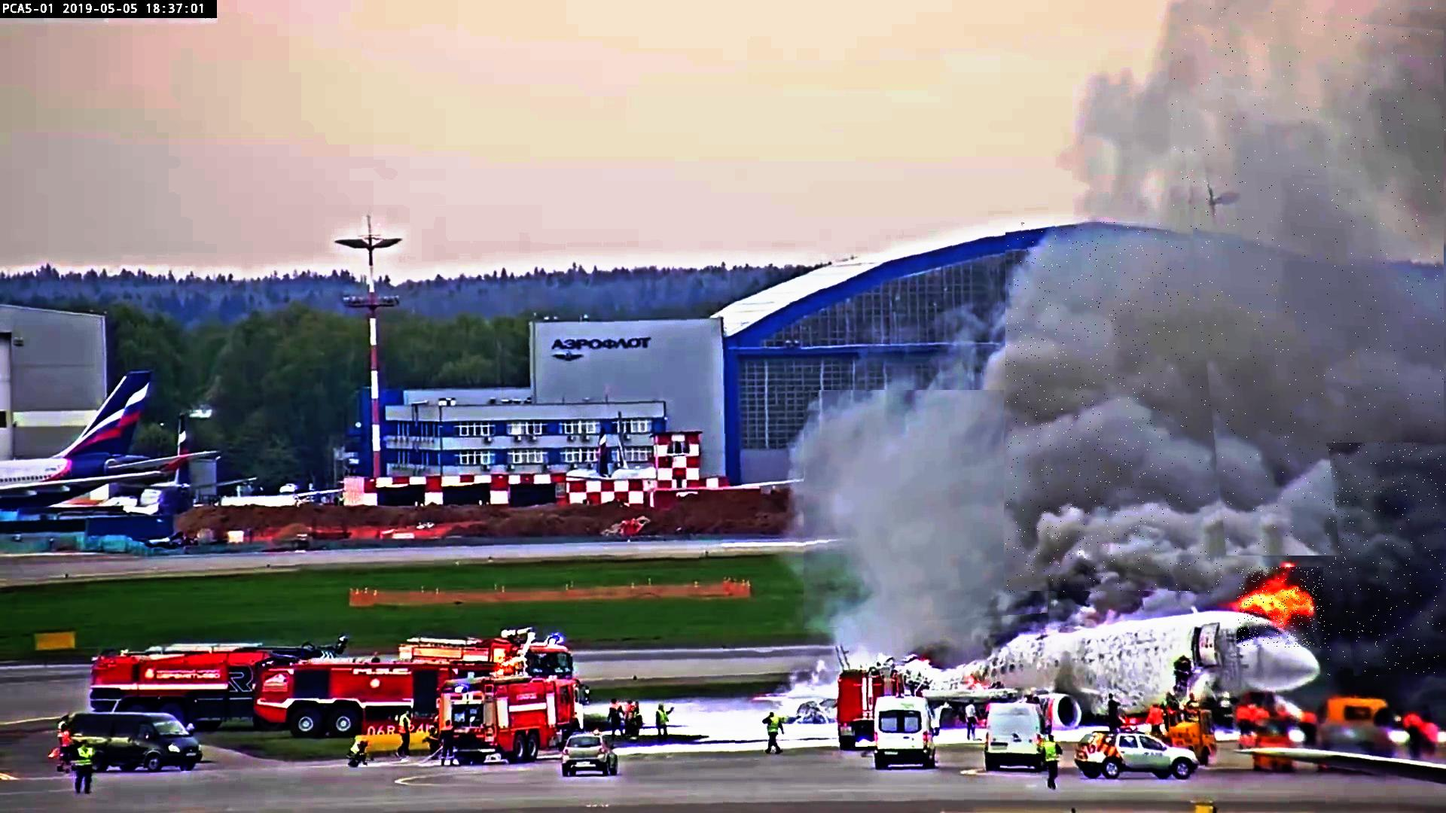fire: (1237, 567, 1326, 648)
smoke: (1172, 8, 1446, 556), (1006, 223, 1222, 593), (804, 390, 1054, 629), (1328, 443, 1446, 676)
